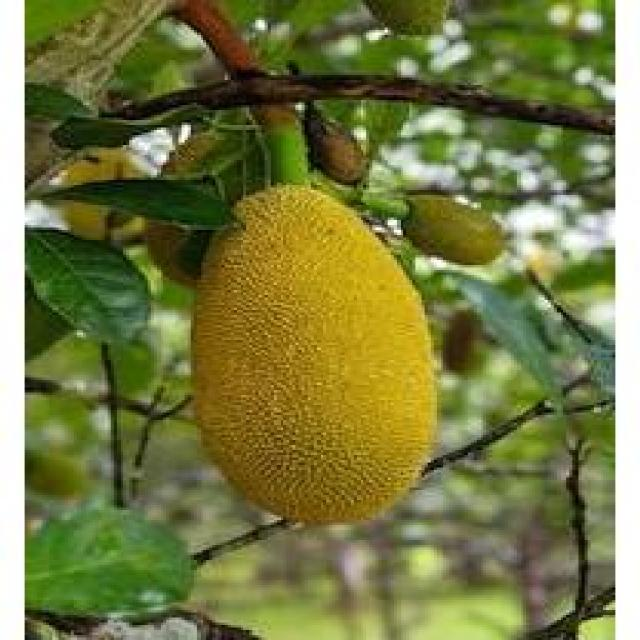Fruit: (160, 168, 471, 550), (289, 0, 523, 48)
